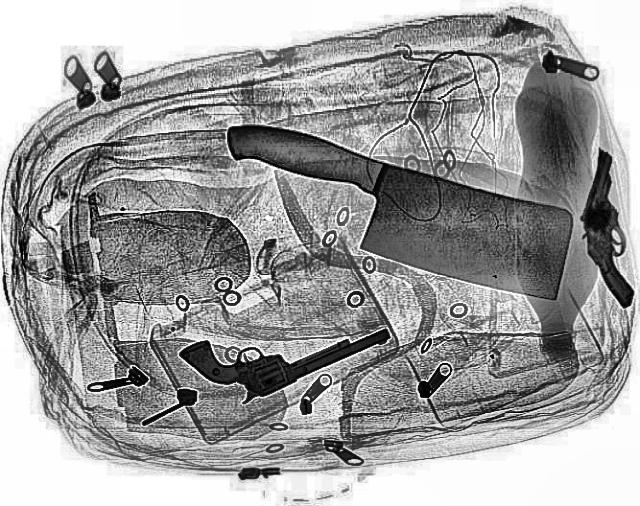Gun: (172, 286, 398, 412), (578, 148, 634, 308)
Knife: (188, 114, 598, 306)
